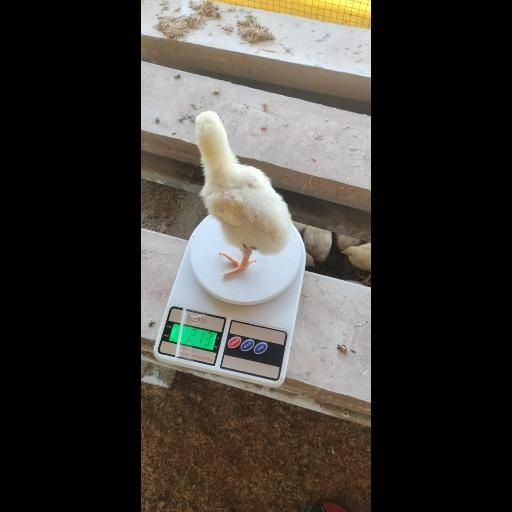chick: (195, 110, 294, 276)
